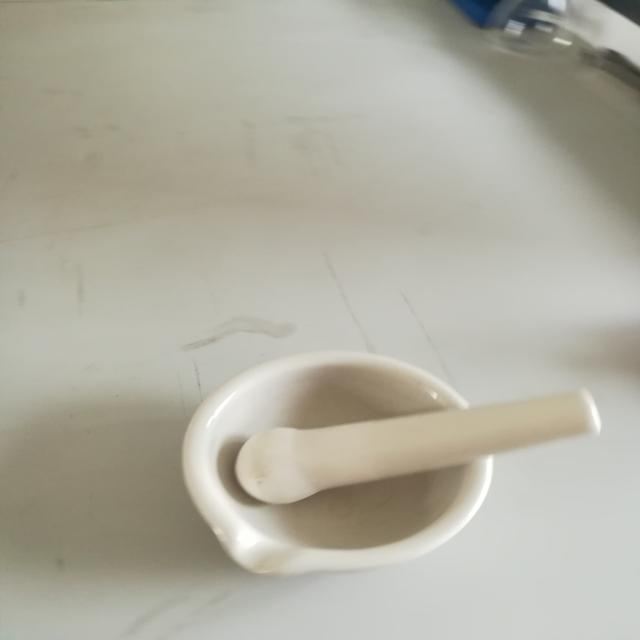Porcelain_Mortar Pestle: (153, 328, 638, 599)
